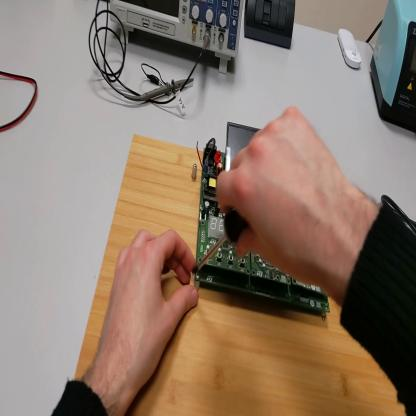hand: (218, 109, 351, 290), (100, 226, 200, 394)
low voltage board: (195, 119, 328, 324)
oscilloscope: (110, 2, 245, 75)
oscilloscope probe tip: (136, 74, 195, 102)
screwdriver-: (194, 206, 255, 268)
welder station: (371, 2, 416, 135)
working area: (74, 133, 407, 415)
